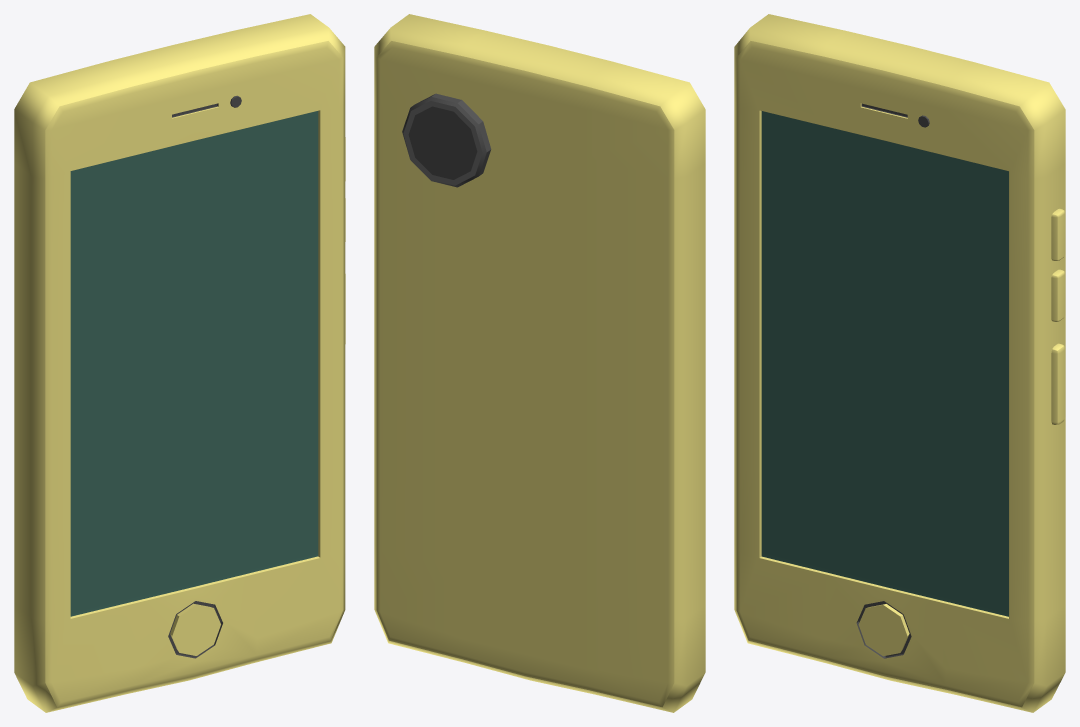
The model's file is mobile phone.fbx.
3 views of the same model, side by side, from view 1: azimuth 30°, elevation 25°; view 2: azimuth 150°, elevation 25°; view 3: azimuth 330°, elevation 25° (orthographic).
Parts seen in each view (by area): view 1: pCube5; view 2: pCube5; view 3: pCube5.
Part boxes in pixels (left/top/right/bottom): pCube5: left=14, top=14, right=345, bottom=712; pCube5: left=374, top=14, right=705, bottom=712; pCube5: left=734, top=14, right=1065, bottom=712.
Size of the model in its own units: 4.42 by 8.21 by 0.9236.
